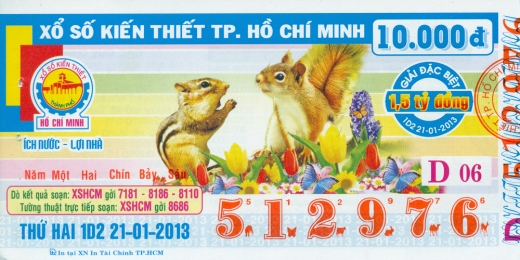serial_zone: (210, 193, 500, 249)
